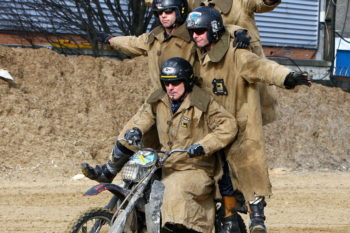helmet: (122, 52, 222, 207)
